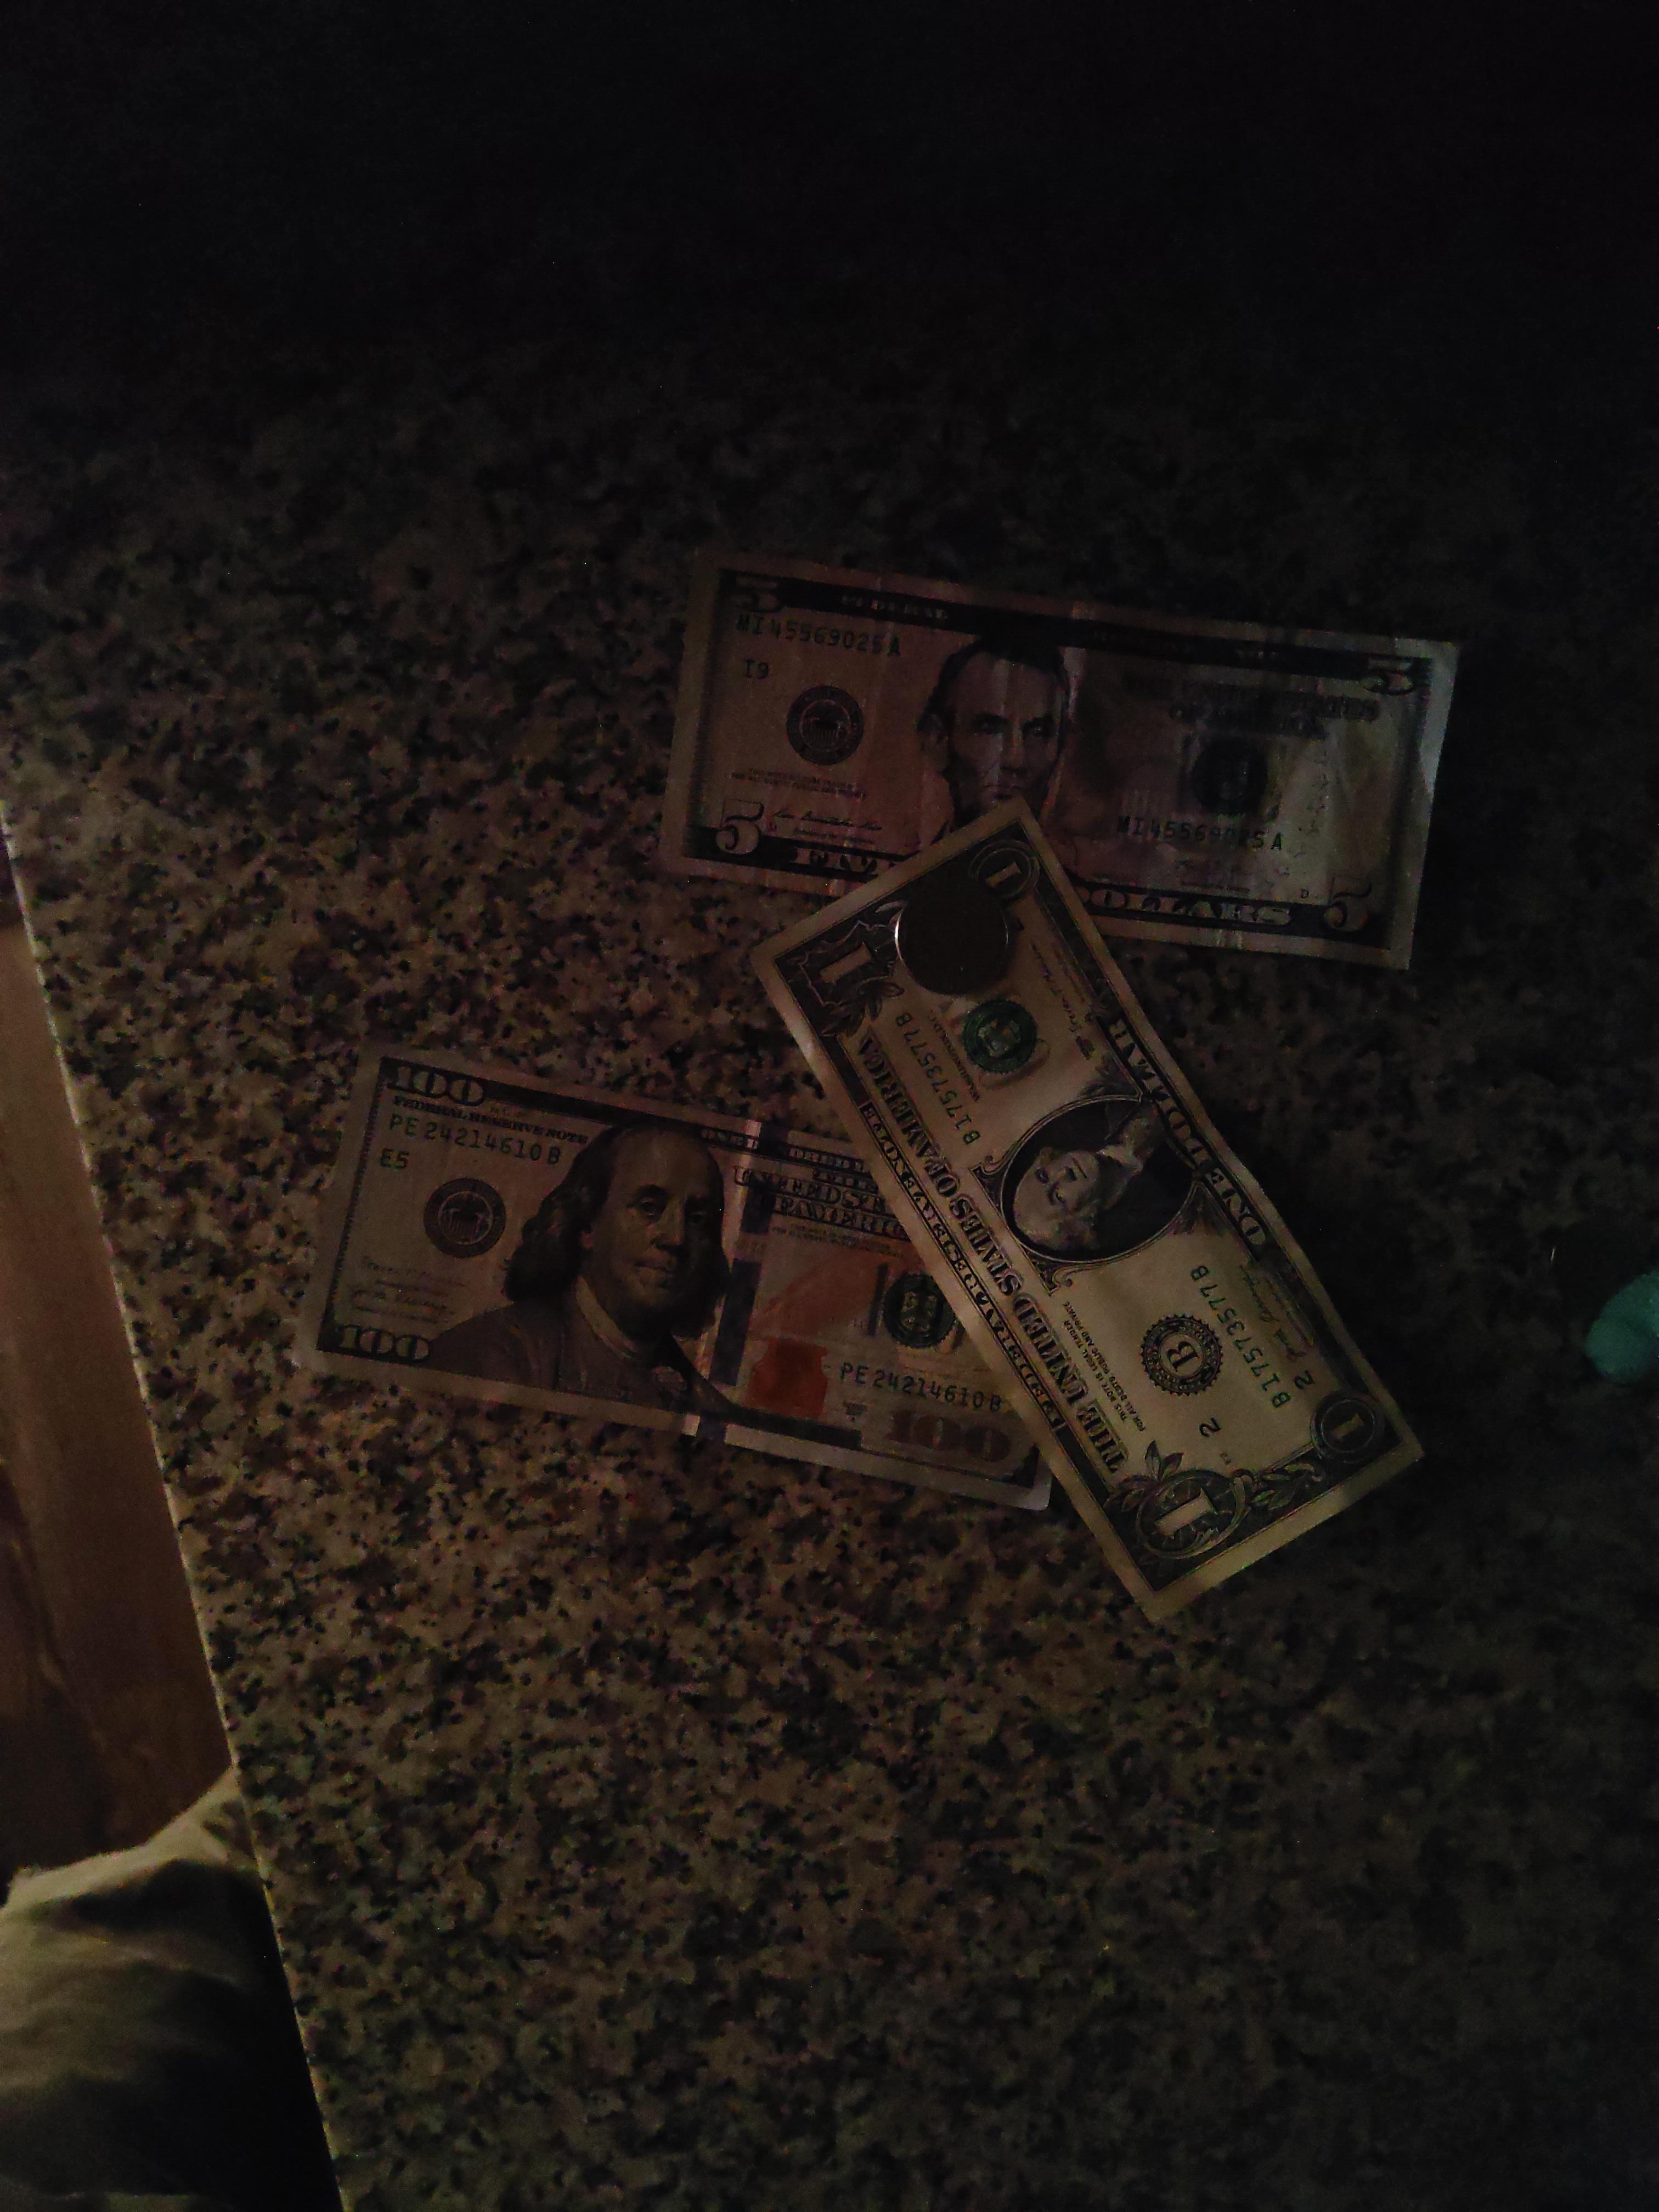Dime: (1547, 1212, 1650, 1312)
FiveBill: (653, 549, 1474, 970)
HundredBill: (286, 1043, 1060, 1510)
OneBill: (746, 791, 1429, 1627)
Quarter: (890, 874, 1019, 996)
